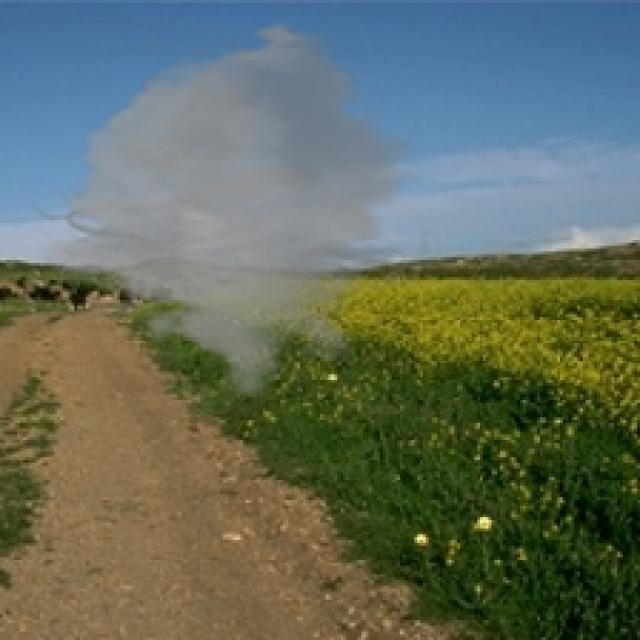Smoke: (26, 20, 448, 400)
